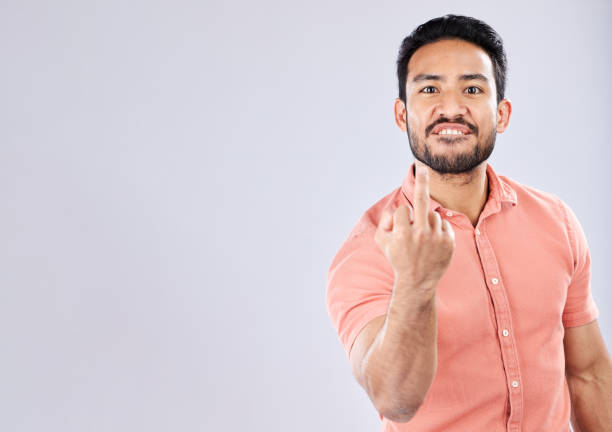insulting_gesture: (376, 163, 454, 292)
